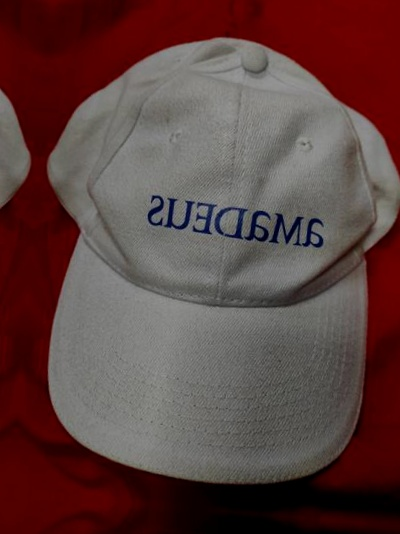Hat: (17, 4, 400, 496), (0, 0, 48, 464), (0, 523, 373, 534), (59, 0, 400, 11), (0, 491, 3, 534)
